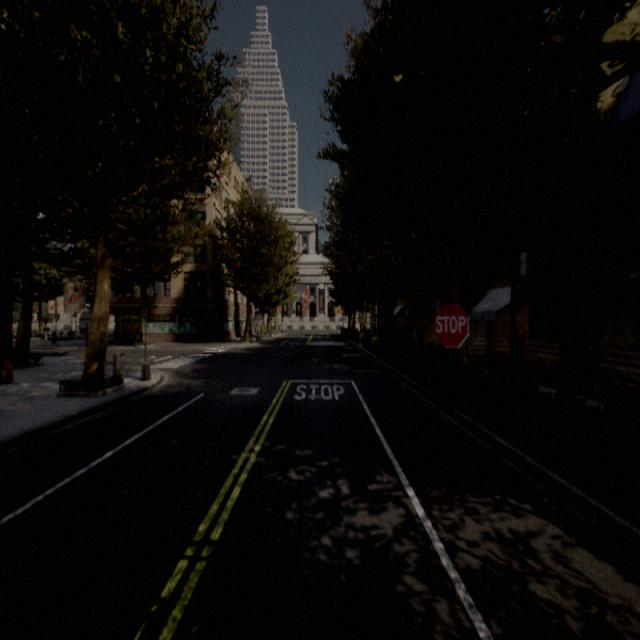stop sign: (431, 300, 472, 351), (434, 312, 468, 335)
